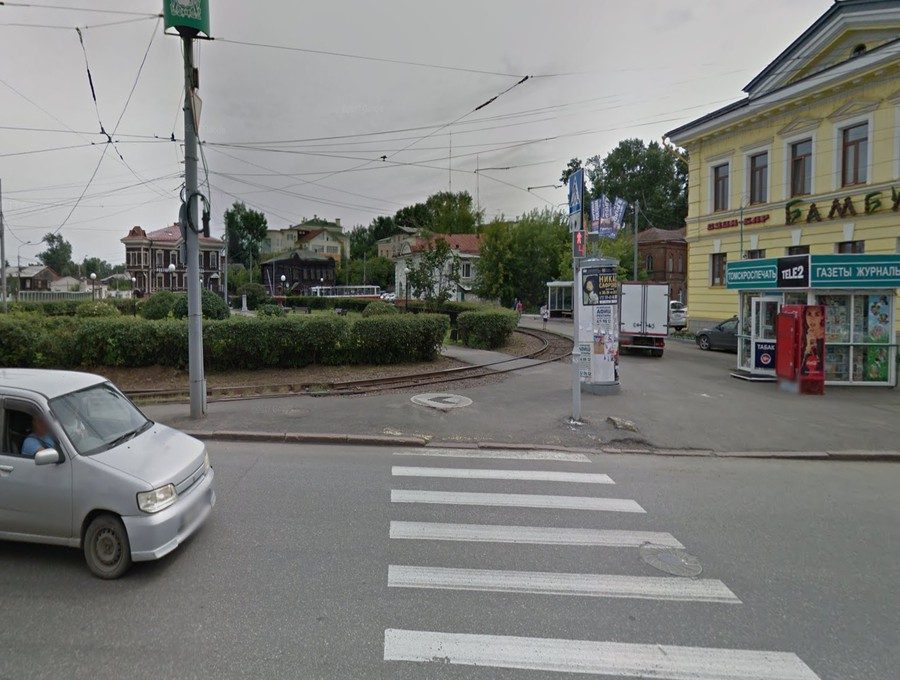Traffic Light-red: (572, 229, 587, 260)
